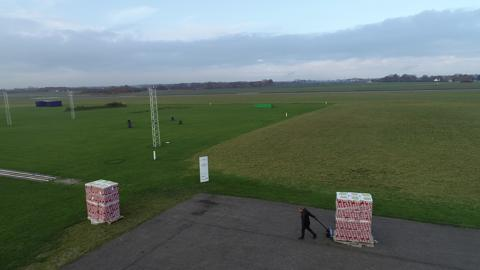RockwoolPallet: (86, 179, 122, 221)
